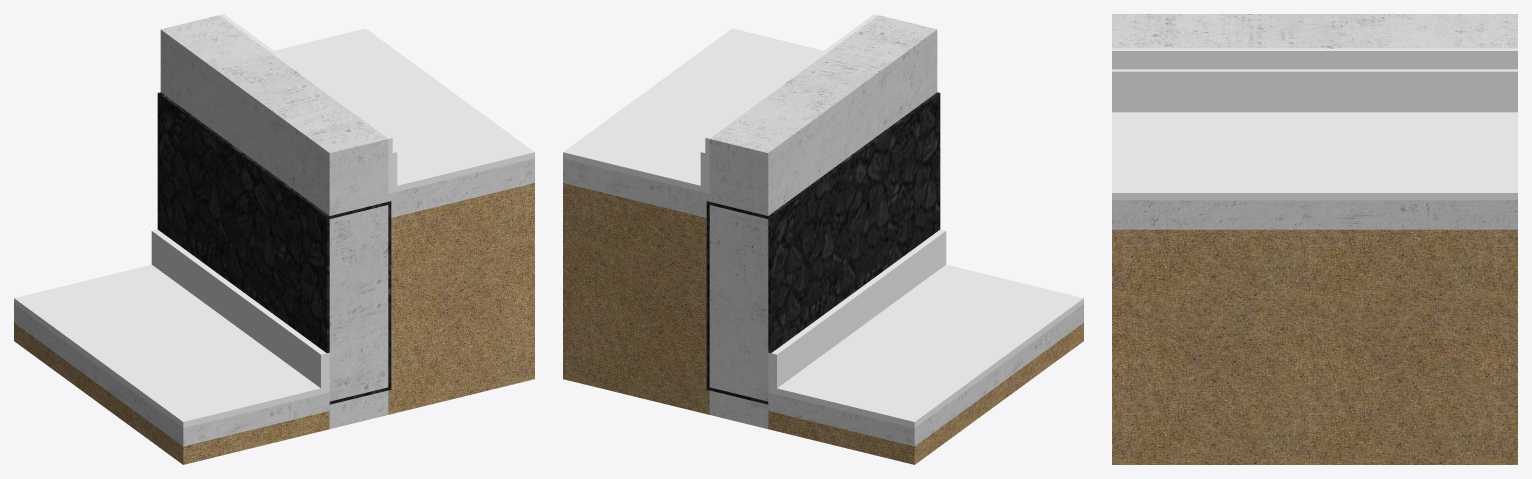
The model's file is damp-proof-c-v2.glb.
The picture shows the model from 3 angles, left to right: view 1: azimuth 30°, elevation 25°; view 2: azimuth 150°, elevation 25°; view 3: azimuth 270°, elevation 25°; orthographic projection. The views are drawn at different scales.
Visible parts, largest first — view 1: 室内地面有高差; view 2: 室内地面有高差; view 3: 室内地面有高差.
Part boxes in pixels (x1,y1,x2,y2): 室内地面有高差: [14, 14, 534, 464]; 室内地面有高差: [563, 14, 1083, 464]; 室内地面有高差: [1112, 14, 1517, 464].
Size of the model in its own units: 1.2 by 0.9 by 1.
4 materials, 3 textured.
